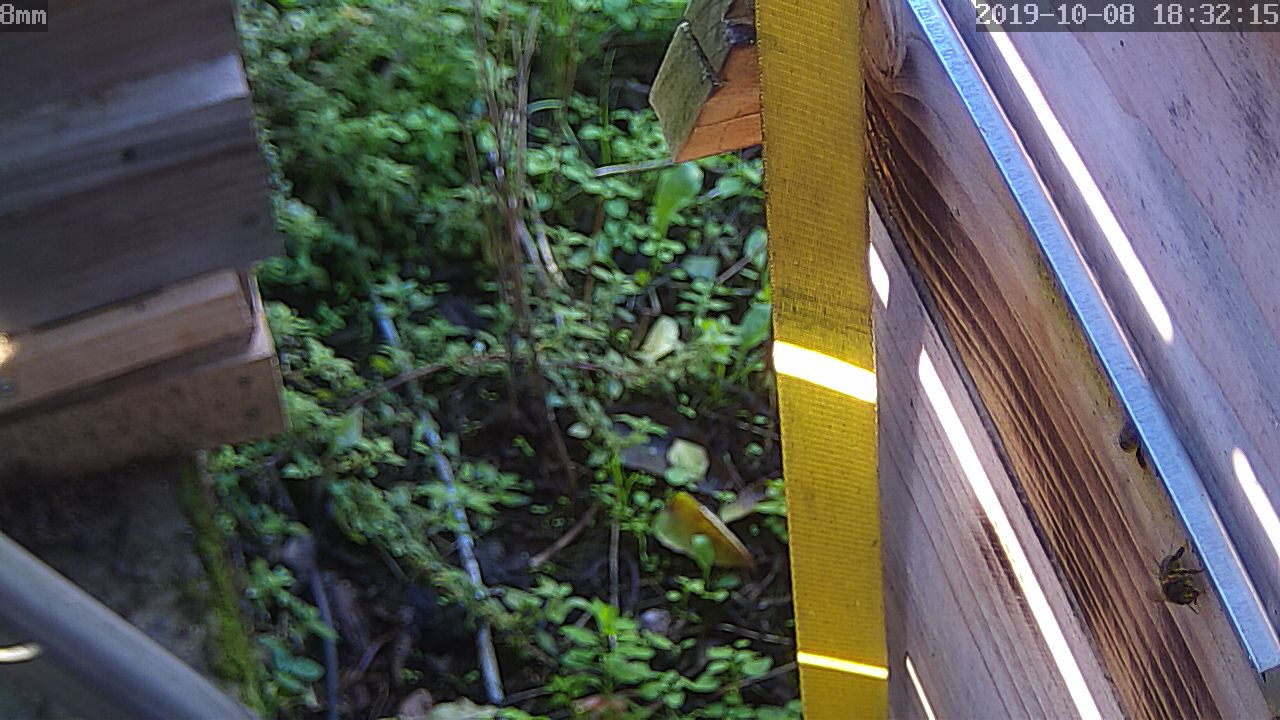bee: (1142, 540, 1201, 612), (1107, 405, 1151, 461)
